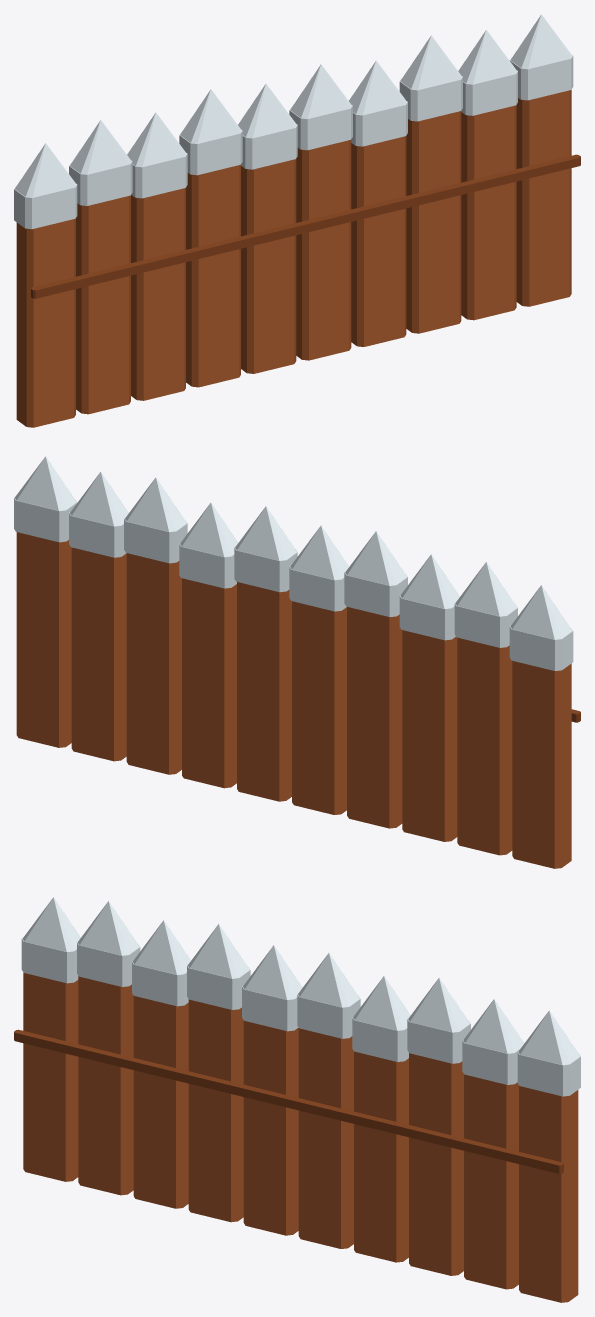
Rendered from fence_panel.obj.
The picture shows the model from 3 angles, top to bottom: view 1: azimuth 30°, elevation 25°; view 2: azimuth 150°, elevation 25°; view 3: azimuth 330°, elevation 25°; orthographic projection.
Visible parts, largest first — view 1: fence_panel; view 2: fence_panel; view 3: fence_panel.
Part boxes in pixels (<box>): fence_panel: <box>14,14,580,427</box>; fence_panel: <box>14,456,580,868</box>; fence_panel: <box>14,897,580,1302</box>.
Bounding box in the file's own units: 2.94 × 1.48 × 0.2096.
